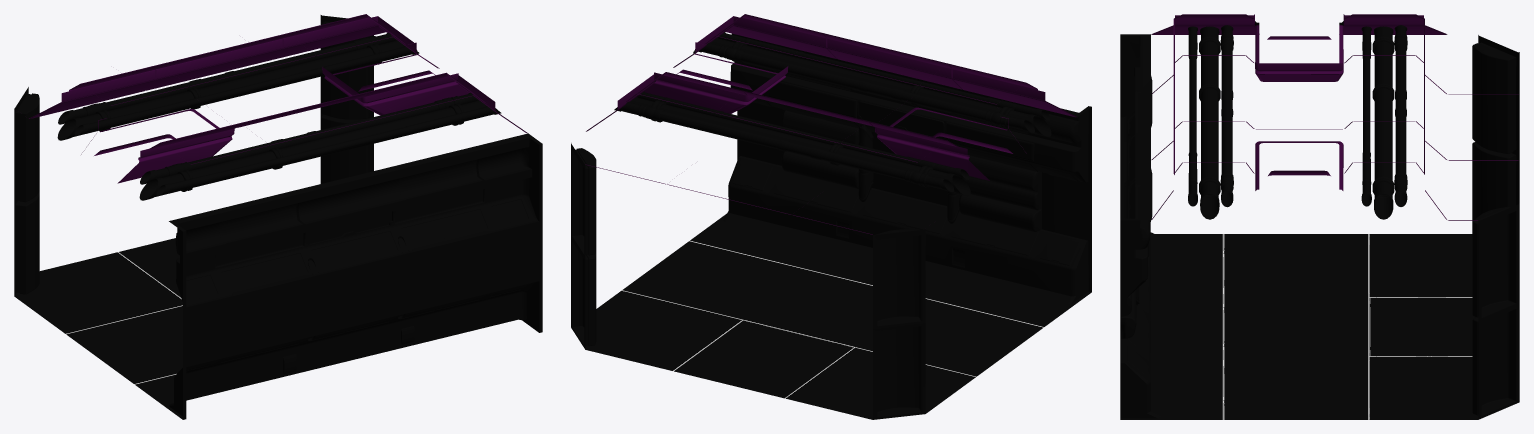
The model's file is HallwayIntersection.fbx.
3 renders of one model, left to right at view 1: azimuth 30°, elevation 25°; view 2: azimuth 150°, elevation 25°; view 3: azimuth 270°, elevation 25°, orthographic. The views are drawn at different scales.
Parts seen in each view (by area): view 1: HallwayIntersection001; view 2: HallwayIntersection001; view 3: HallwayIntersection001.
Part boxes in pixels (x1=…): HallwayIntersection001: x1=14, y1=14, x2=542, y2=419; HallwayIntersection001: x1=571, y1=14, x2=1091, y2=419; HallwayIntersection001: x1=1120, y1=14, x2=1519, y2=419.
Size of the model in its own units: 800 by 478 by 725.
